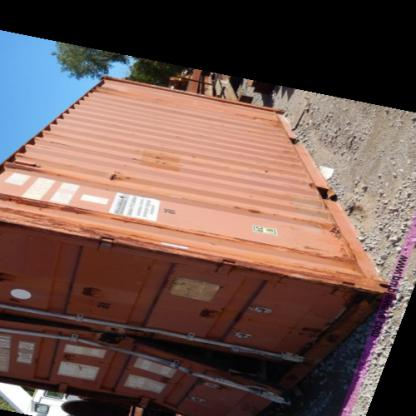Damage: (69, 296, 296, 404), (233, 191, 275, 226), (104, 161, 139, 193), (138, 144, 176, 168)
